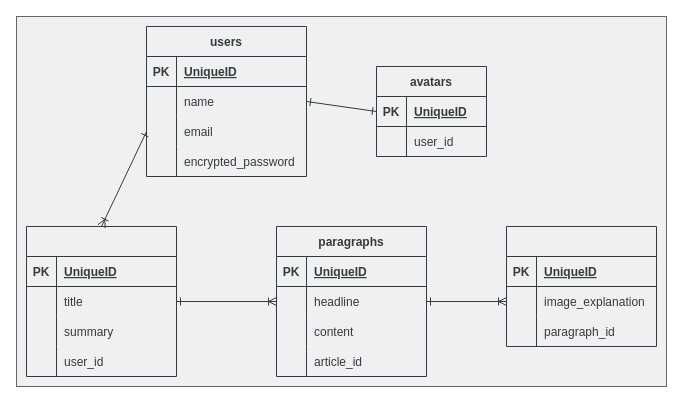
The diagram is 683 pixels wide and 403 high, and some of its shapes have lost their labels. The shapes that lost their labels are listed below. From the top down, each one's box as (x1, y1, x2, y2) in pixels, then its label:
(26, 226, 176, 376): articles
(506, 226, 656, 346): images
